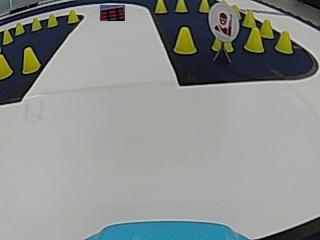evil: (207, 3, 240, 41)
